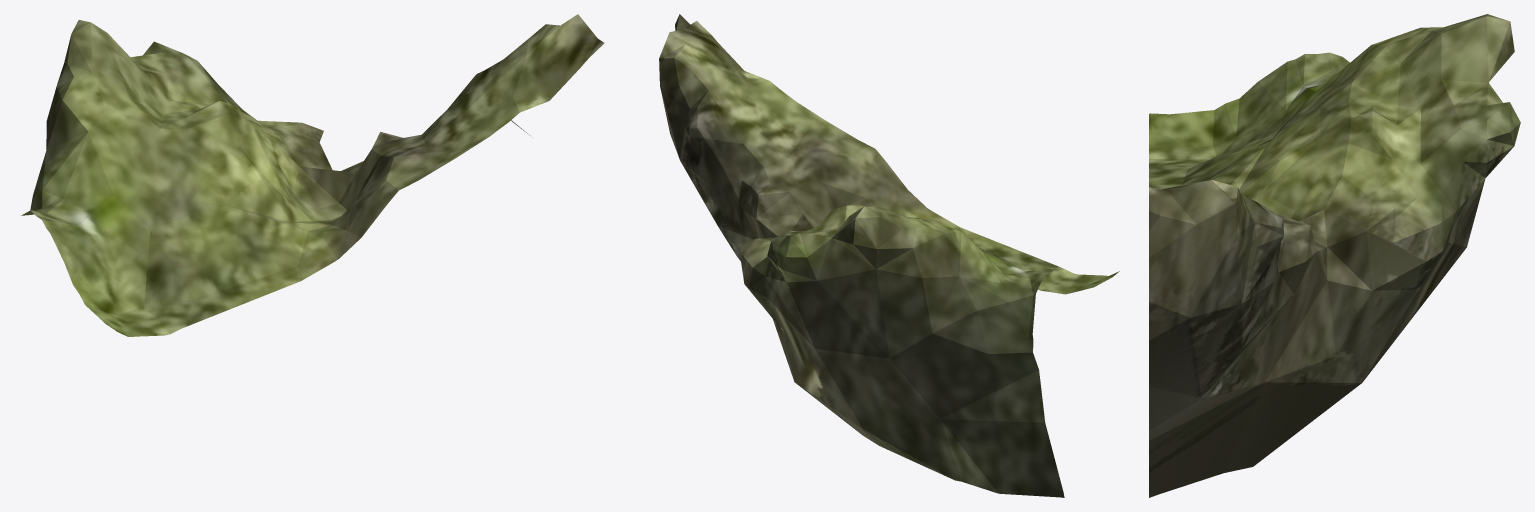
The picture shows the model from 3 angles, left to right: view 1: azimuth 30°, elevation 25°; view 2: azimuth 150°, elevation 25°; view 3: azimuth 270°, elevation 25°; orthographic projection. The views are drawn at different scales.
Bounding box in the file's own units: 2.12 × 1.54 × 1.26.
Materials: 1 (1 with a texture image).
